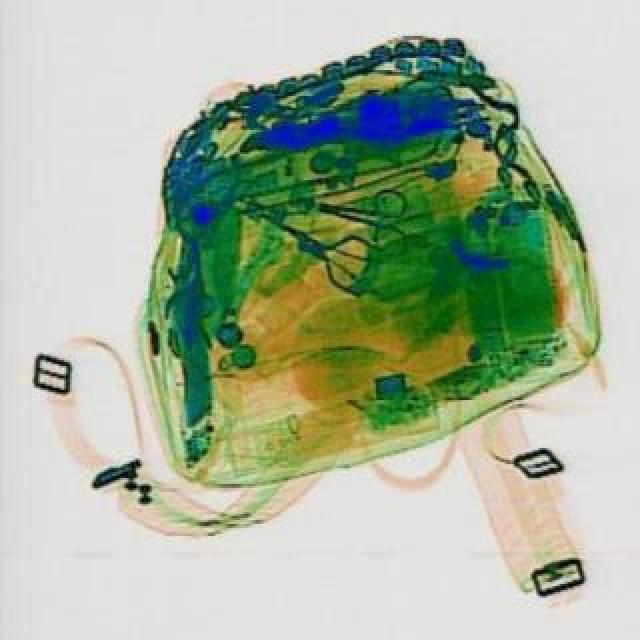pliers: (308, 172, 420, 256)
